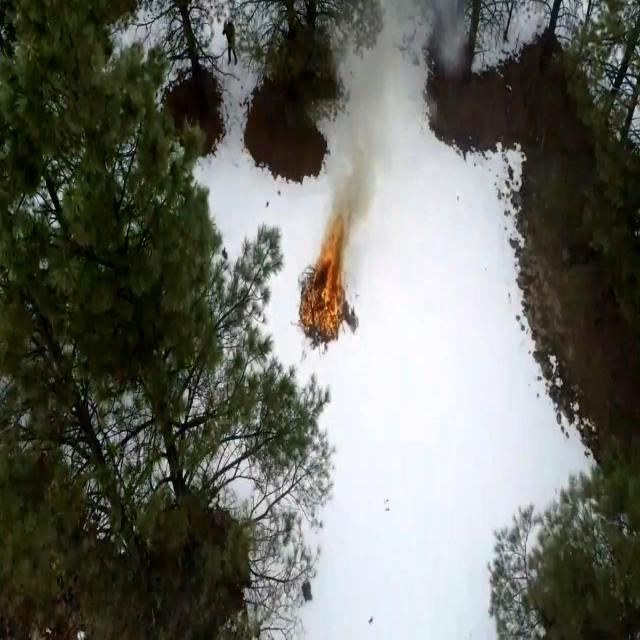Fire: (297, 228, 362, 334)
Smoke: (315, 3, 461, 226)
